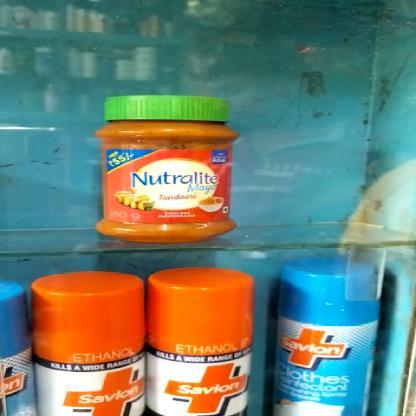Nutralite TANDOORI MAYO 300g-275g-25g-: (93, 96, 240, 244)
